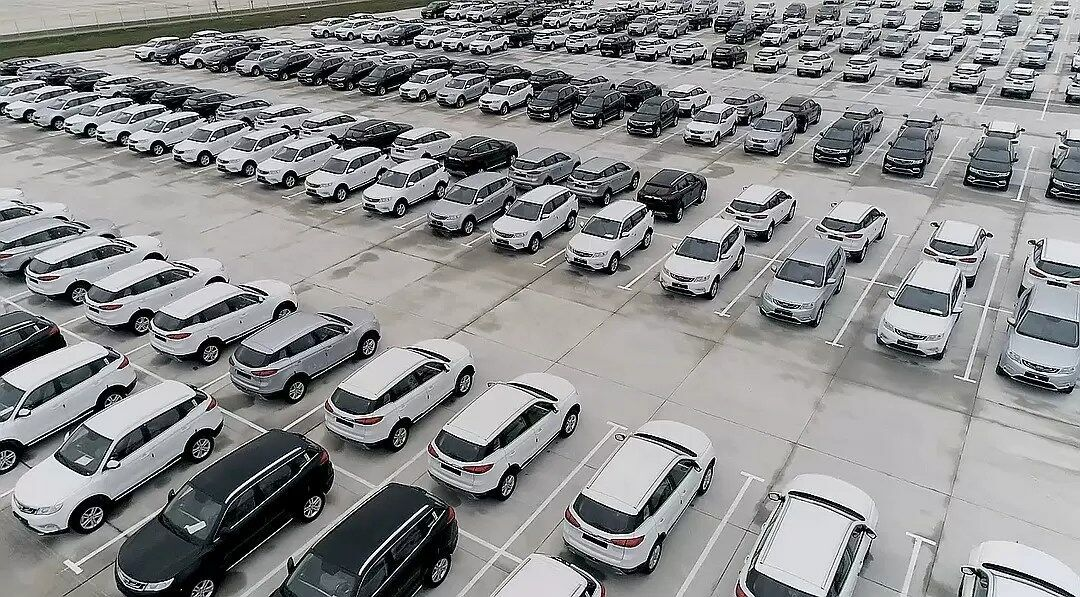Car: (113, 429, 335, 597), (11, 381, 224, 534), (562, 420, 717, 574), (270, 482, 459, 597), (427, 373, 582, 501), (0, 342, 137, 474), (733, 473, 877, 597), (324, 339, 475, 451), (229, 307, 381, 403), (150, 279, 299, 365), (84, 257, 232, 335), (25, 235, 168, 304), (996, 283, 1080, 393), (876, 260, 967, 359), (759, 236, 847, 327), (0, 218, 121, 279), (660, 218, 746, 299), (957, 542, 1080, 597), (565, 200, 654, 274), (490, 185, 579, 252), (428, 172, 516, 235), (362, 158, 450, 217), (490, 553, 606, 597), (920, 220, 994, 288), (303, 146, 391, 202), (814, 200, 889, 263), (256, 135, 342, 188), (0, 311, 68, 377), (721, 184, 797, 242), (215, 127, 300, 177), (636, 168, 707, 223), (172, 120, 253, 166), (1018, 237, 1080, 296), (566, 156, 640, 205), (127, 112, 209, 156), (95, 104, 173, 147), (507, 146, 582, 190), (63, 97, 139, 138), (444, 135, 518, 177), (963, 137, 1019, 191), (33, 92, 106, 132), (5, 85, 78, 124), (882, 126, 934, 178), (390, 127, 462, 164), (813, 117, 866, 167), (744, 110, 798, 156), (343, 119, 413, 154), (0, 201, 77, 232), (683, 104, 738, 146), (299, 112, 369, 143), (627, 96, 679, 137), (571, 89, 625, 128), (526, 83, 580, 122), (215, 96, 275, 130), (478, 79, 533, 115), (182, 92, 245, 123), (147, 86, 217, 113), (435, 74, 490, 108), (0, 80, 51, 116), (1046, 147, 1080, 201), (253, 104, 323, 130), (721, 88, 768, 126), (398, 69, 453, 101), (841, 103, 884, 143), (981, 120, 1025, 159), (121, 79, 188, 104), (358, 64, 412, 95), (776, 96, 821, 133), (327, 59, 379, 90), (616, 78, 662, 111), (263, 52, 315, 81), (296, 56, 347, 85), (568, 72, 615, 103), (667, 84, 712, 116), (898, 111, 944, 141), (235, 49, 285, 76), (205, 46, 254, 73), (484, 63, 532, 89), (178, 43, 225, 69), (154, 39, 201, 65), (133, 36, 180, 62), (1000, 68, 1039, 99), (1050, 129, 1080, 169), (528, 69, 574, 95), (411, 54, 459, 78), (93, 75, 142, 98), (949, 64, 986, 93), (895, 59, 931, 88), (65, 70, 112, 92), (40, 65, 87, 86), (1018, 40, 1052, 69), (469, 31, 510, 55), (797, 51, 834, 77), (670, 39, 708, 64), (17, 61, 64, 81), (442, 28, 482, 51), (753, 47, 788, 73), (711, 43, 747, 68), (635, 37, 672, 61), (599, 33, 636, 57), (843, 55, 877, 81), (386, 24, 426, 46), (413, 26, 451, 49), (973, 38, 1004, 66), (565, 31, 602, 54), (839, 28, 873, 53), (334, 19, 374, 40), (532, 29, 570, 51), (878, 31, 910, 57), (310, 18, 350, 38), (0, 57, 42, 76), (361, 21, 399, 42), (501, 27, 538, 48), (314, 44, 359, 61), (379, 51, 421, 69), (450, 60, 492, 78), (657, 15, 689, 38), (925, 35, 954, 60), (725, 21, 756, 44), (348, 48, 389, 65), (798, 27, 828, 50), (759, 24, 790, 46), (1037, 16, 1063, 41), (541, 9, 573, 29), (628, 15, 658, 36), (289, 41, 326, 58), (597, 13, 628, 33), (944, 28, 968, 52), (421, 1, 453, 19), (465, 4, 497, 22), (568, 12, 600, 30), (895, 24, 920, 47), (1032, 34, 1054, 60), (232, 36, 270, 51), (980, 30, 1007, 51), (816, 20, 843, 41), (210, 34, 245, 50), (782, 18, 810, 38), (516, 7, 545, 26), (713, 14, 743, 32), (996, 14, 1020, 36), (684, 12, 713, 30), (751, 16, 777, 36), (444, 3, 474, 20), (189, 30, 225, 44), (260, 39, 296, 53), (490, 6, 518, 24), (882, 8, 907, 28), (855, 23, 882, 41), (961, 12, 983, 34), (846, 6, 871, 25), (1065, 73, 1080, 103), (815, 5, 840, 23), (751, 2, 776, 20), (0, 187, 28, 203), (654, 10, 680, 27), (920, 10, 941, 31), (597, 7, 626, 22), (783, 2, 805, 21), (516, 2, 545, 16), (449, 21, 478, 34), (694, 0, 718, 15), (721, 0, 745, 15), (1050, 0, 1071, 17), (544, 3, 569, 17), (569, 5, 598, 17), (0, 76, 23, 91), (1012, 0, 1035, 15), (625, 8, 649, 22), (668, 0, 693, 13), (640, 0, 666, 12), (978, 0, 999, 14), (475, 23, 504, 33), (496, 0, 520, 11), (371, 14, 400, 23), (943, 0, 964, 12), (397, 17, 425, 26), (422, 19, 450, 28), (615, 0, 640, 10), (1071, 46, 1080, 71), (913, 0, 935, 10), (348, 13, 373, 21), (472, 0, 497, 8), (569, 0, 594, 7), (880, 0, 901, 8), (855, 0, 876, 7), (823, 0, 845, 5)
